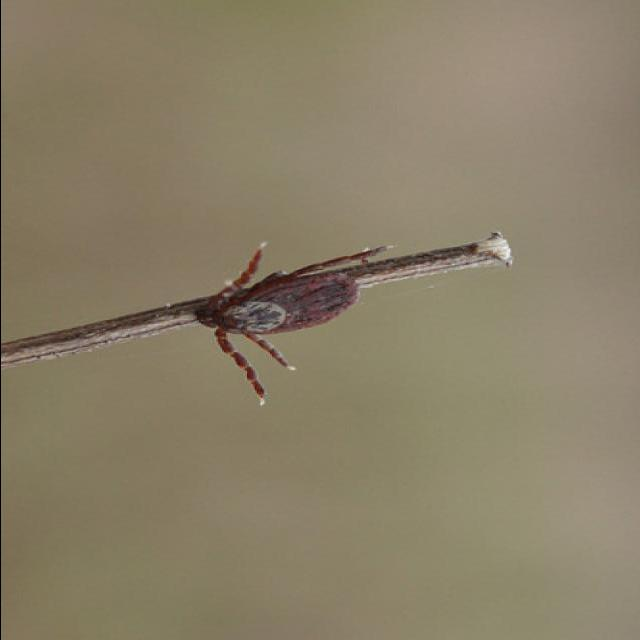Dermacentor Reticulatus-F: (194, 241, 390, 404)
